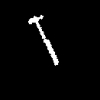half_double_crochet: (28, 15, 58, 64)
